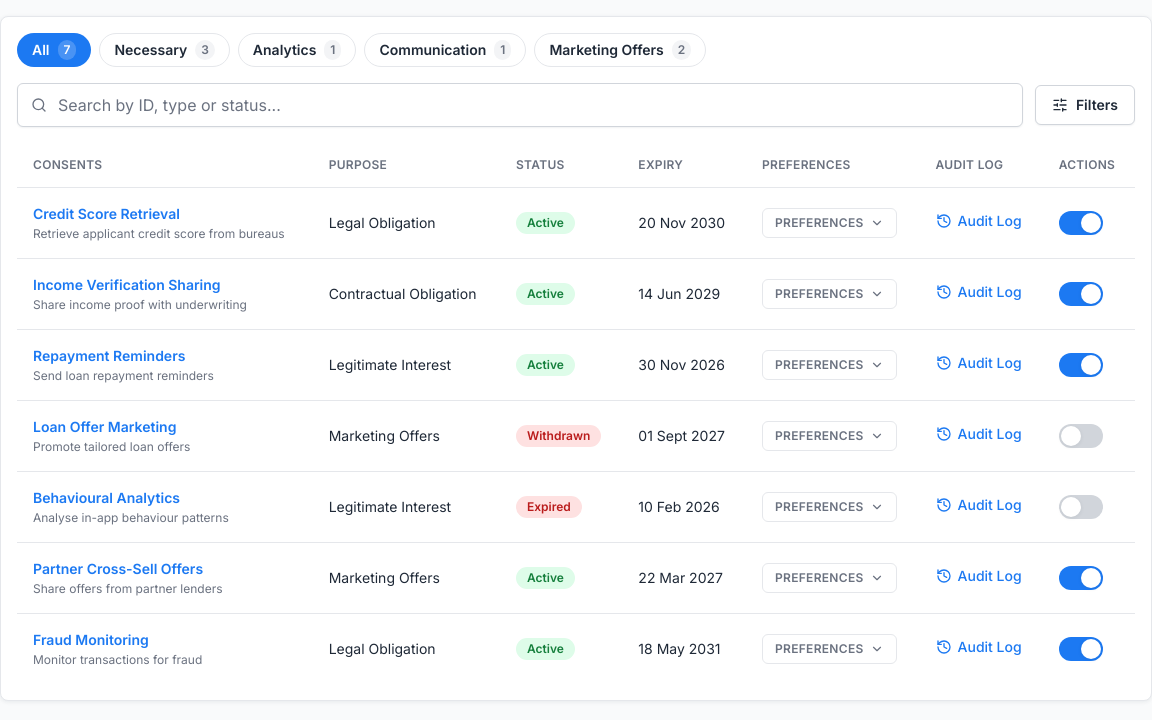
Test: ConsentDetail — legal consent withdrawal flow › opens the confirmation modal with the Opt-In → Opt-Out change on toggle
This screenshot has width=1152, height=720.
Click the switch named "Toggle Credit Score Retrieval" at [1081, 222], box [1059,210,1103,234]
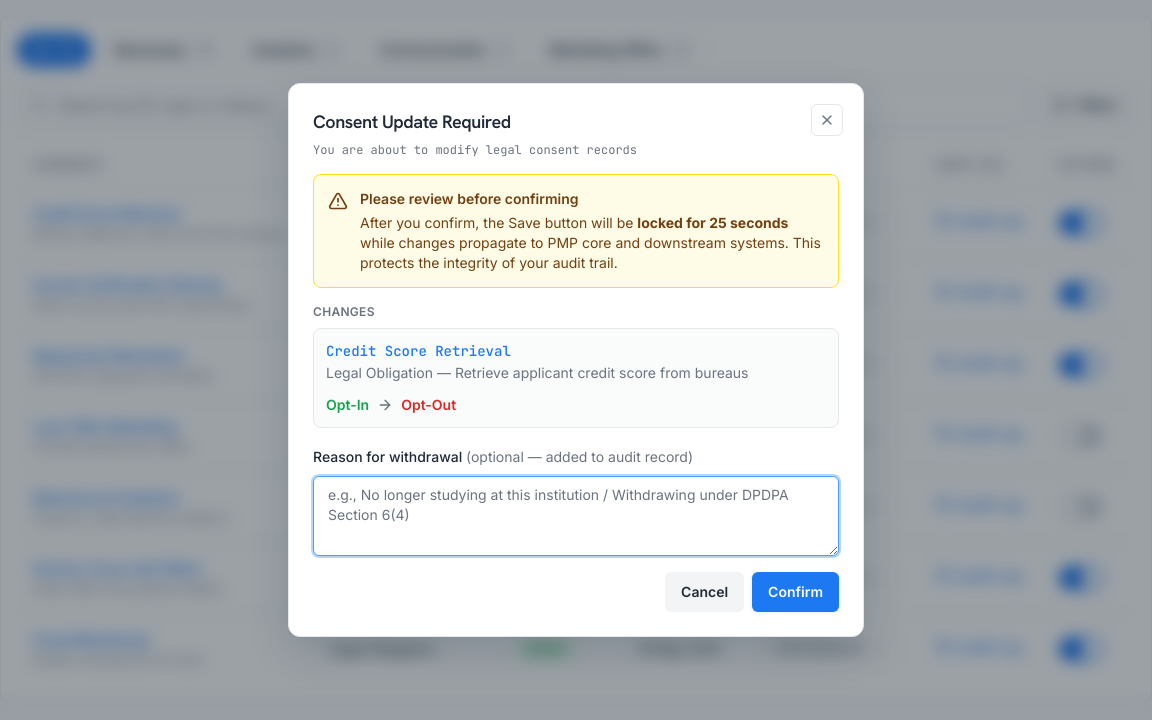
Expected: the heading "Consent Update Required" is shown, [313,110,511,133]
Expected: the text "Reason for withdrawal (optional — added to audit record)" is shown, [313,448,693,465]
Expected: the text "Opt-In" is shown, [326,395,369,415]
